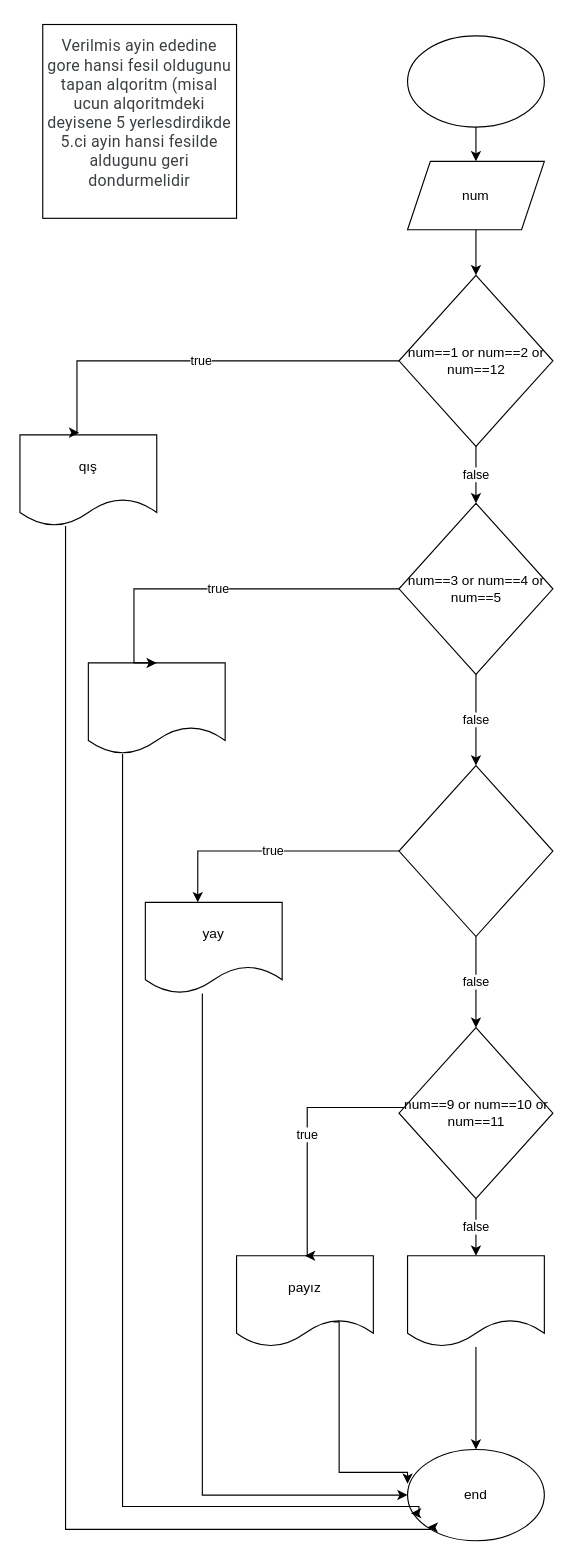
The diagram is 573 pixels wide and 1561 high, and some of its shapes have lost their labels. The shapes that lost their labels are listed below. From the top down, each one's centre as x and y in pixels, then its label:
the point at 475,81: start
the point at 156,708: yaz
the point at 475,850: num==6 or num==7 or num==8
the point at 475,1301: daxil edilən ədəd 12i aşmalı deyil
